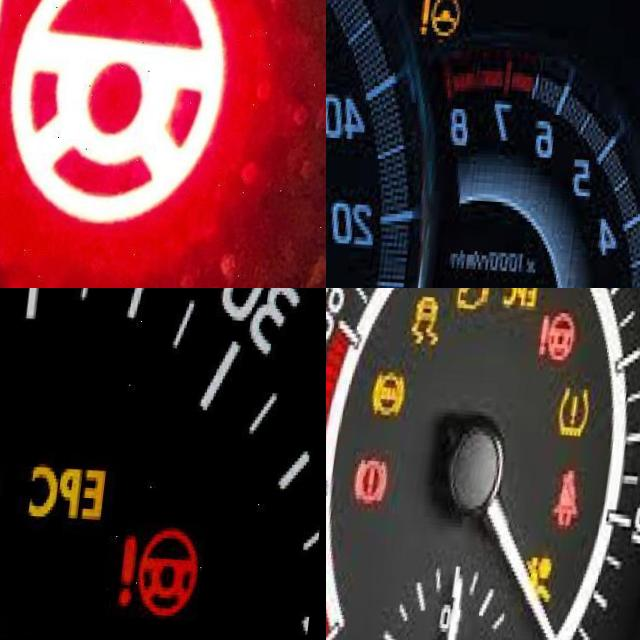Electronic Power Steering: (541, 306, 585, 358), (419, 0, 463, 36)
Electronic Power Steering Warning: (0, 0, 251, 226), (121, 520, 218, 618)
Seat Belt: (562, 463, 590, 522)
